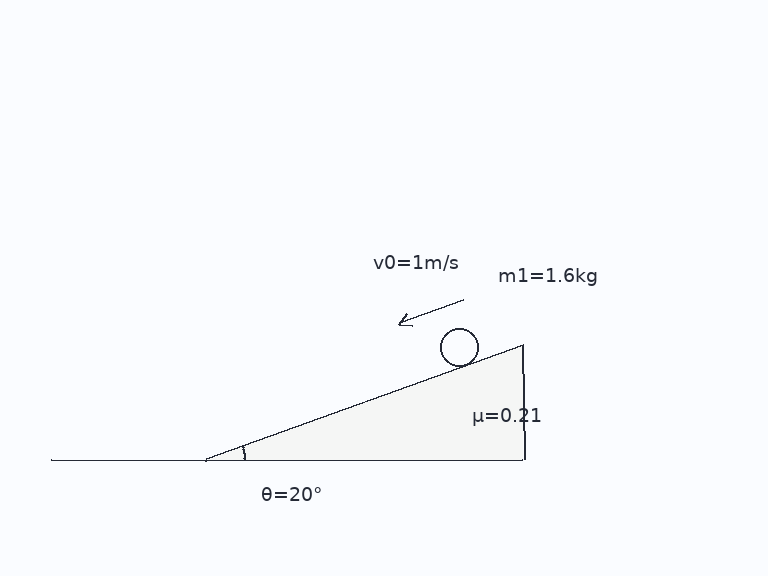ball: (438, 326, 480, 368)
ramp: (203, 342, 525, 462)
